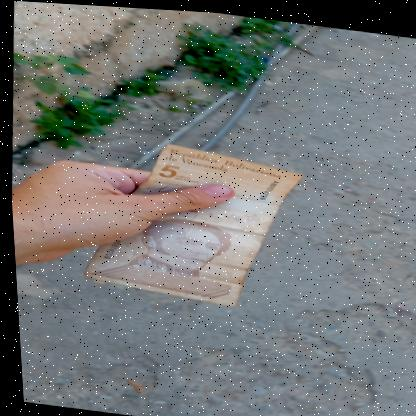vef_front: (73, 131, 309, 313)
